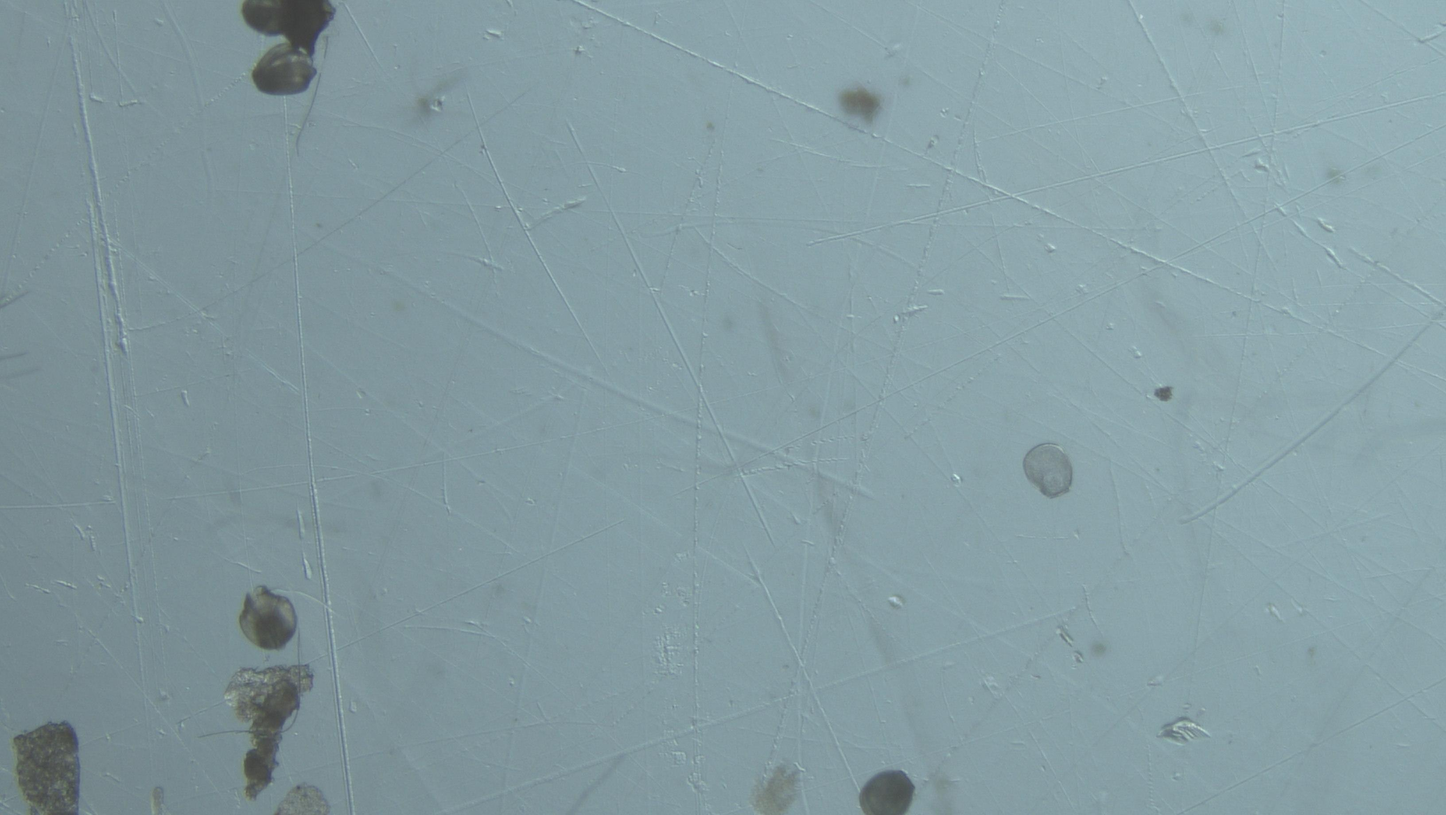dead: (1023, 443, 1073, 499)
live: (238, 586, 298, 652), (251, 41, 317, 96), (859, 770, 915, 815)
